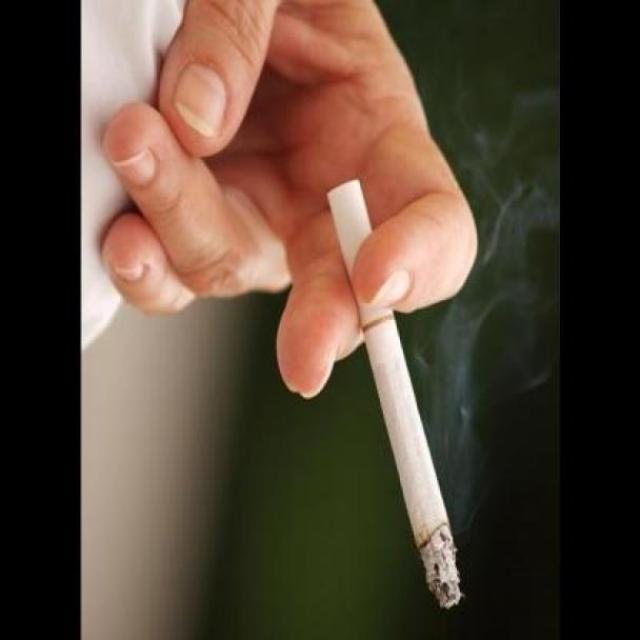rokok: (324, 171, 466, 611)
